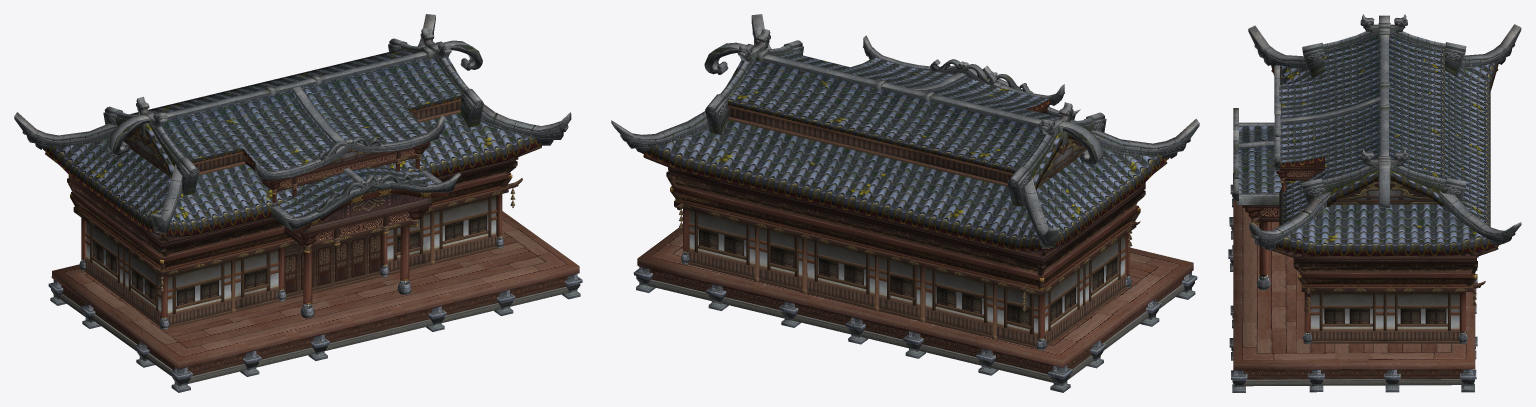
Rendered from S2_Build_XSC023_1.FBX.
The picture shows the model from 3 angles, left to right: view 1: azimuth 30°, elevation 25°; view 2: azimuth 150°, elevation 25°; view 3: azimuth 270°, elevation 25°; orthographic projection. The views are drawn at different scales.
Parts seen in each view (by area): view 1: S2_Build_XSC023; view 2: S2_Build_XSC023; view 3: S2_Build_XSC023.
Boxes of the visible parts, x1,y1,x2,y2 form: S2_Build_XSC023: (14,14,582,392); S2_Build_XSC023: (611,14,1199,392); S2_Build_XSC023: (1228,14,1521,392).
Bounding box in the file's own units: 2714 × 1343 × 1682.
